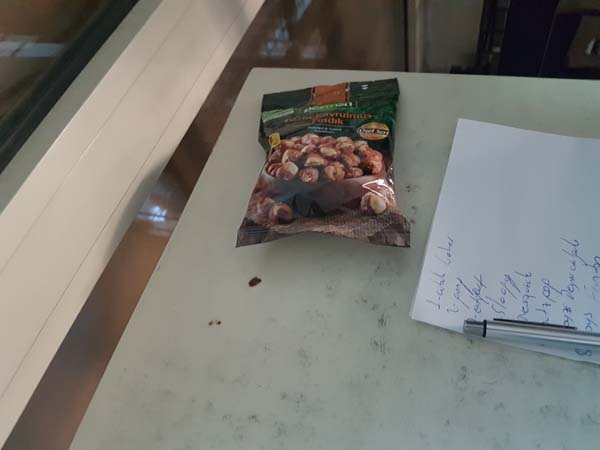peysankavrulmusfindik: (247, 75, 419, 255)
